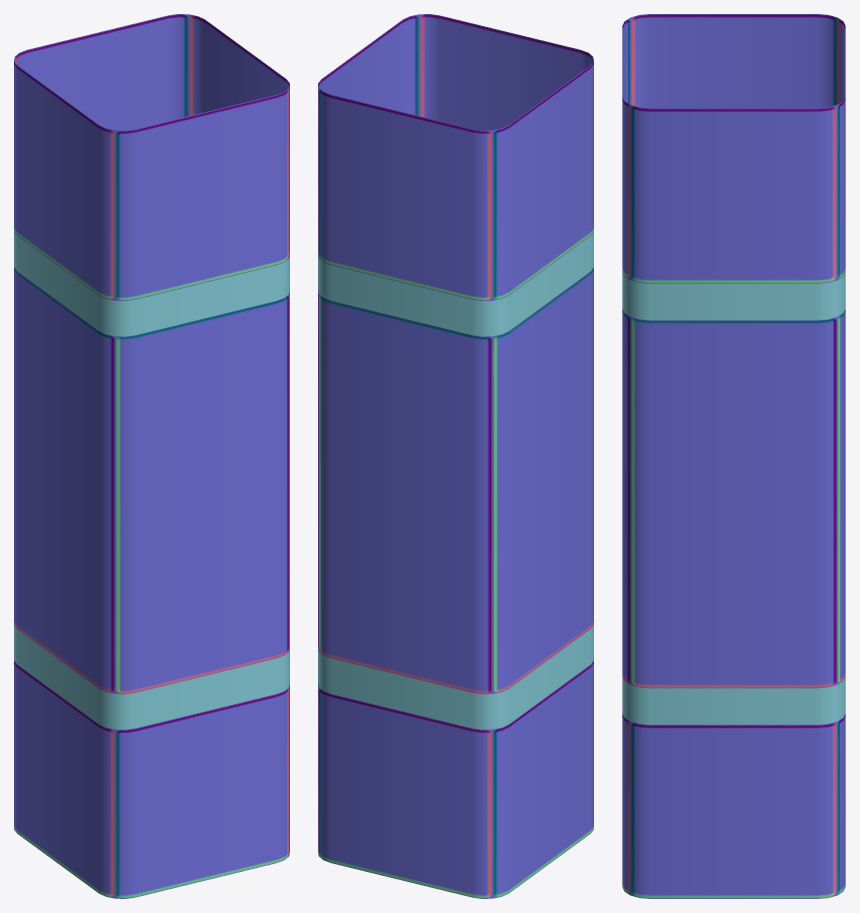
Rendered from Column_01.FBX.
The picture shows the model from 3 angles, left to right: view 1: azimuth 30°, elevation 25°; view 2: azimuth 150°, elevation 25°; view 3: azimuth 270°, elevation 25°; orthographic projection. The views are drawn at different scales.
Visible parts, largest first — view 1: Column_01, Neon_01; view 2: Column_01, Neon_01; view 3: Column_01, Neon_01.
Boxes of the visible parts, bbox=[...] form: Column_01: bbox=[14, 14, 289, 898]; Neon_01: bbox=[14, 232, 289, 729]; Column_01: bbox=[318, 14, 593, 898]; Neon_01: bbox=[318, 232, 593, 729]; Column_01: bbox=[622, 14, 845, 898]; Neon_01: bbox=[622, 272, 845, 724].
Size of the model in its own units: 2 by 7.82 by 2.
Materials: 2 (1 with a texture image).
